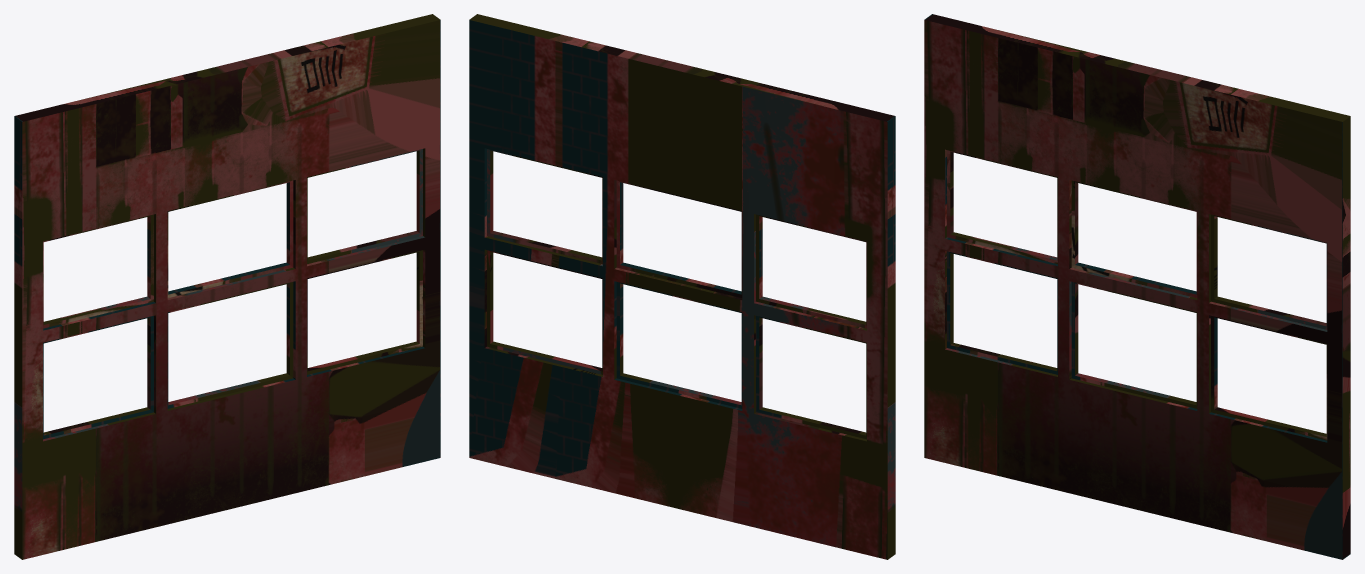
File: PAREDE 3 M 6 JANELAS.fbx
The picture shows the model from 3 angles, left to right: view 1: azimuth 30°, elevation 25°; view 2: azimuth 150°, elevation 25°; view 3: azimuth 330°, elevation 25°; orthographic projection.
Parts seen in each view (by area): view 1: Cube.010; view 2: Cube.010; view 3: Cube.010.
Boxes of the visible parts, <box> form: Cube.010: <box>14,14,440,559</box>; Cube.010: <box>469,14,895,559</box>; Cube.010: <box>924,14,1350,559</box>.
Bounding box in the file's own units: 300 × 300 × 10.
